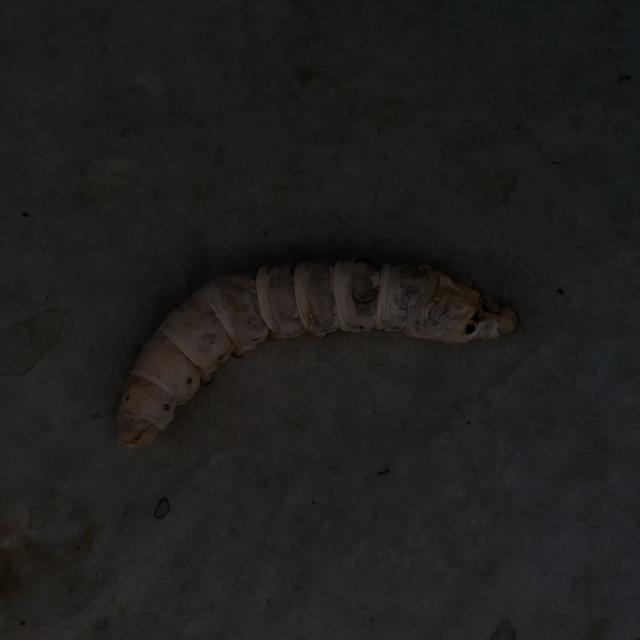Grasserie: (111, 238, 527, 461)
